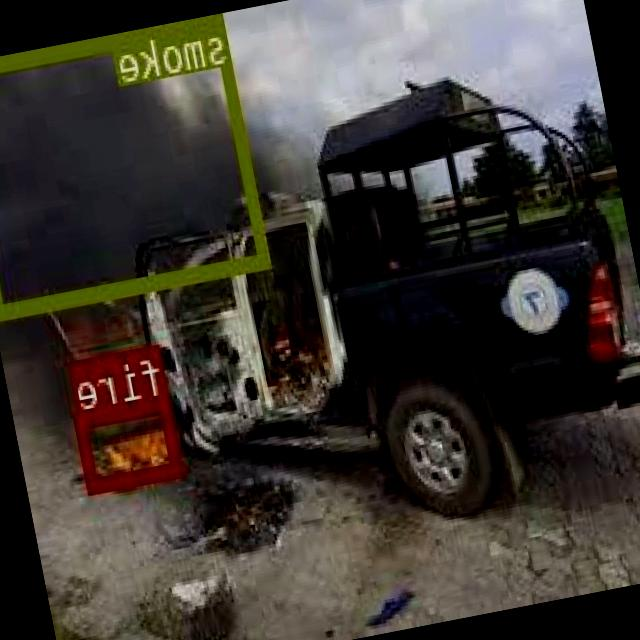fire: (76, 394, 185, 490)
smoke: (0, 12, 273, 315)
